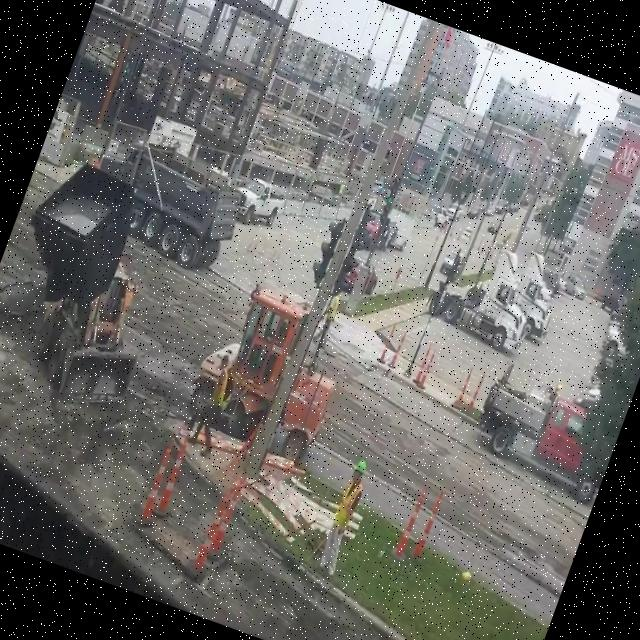Dump Truck: (73, 115, 258, 280), (464, 356, 630, 505)
Loader: (22, 243, 169, 421)
Roller: (178, 272, 361, 469)
